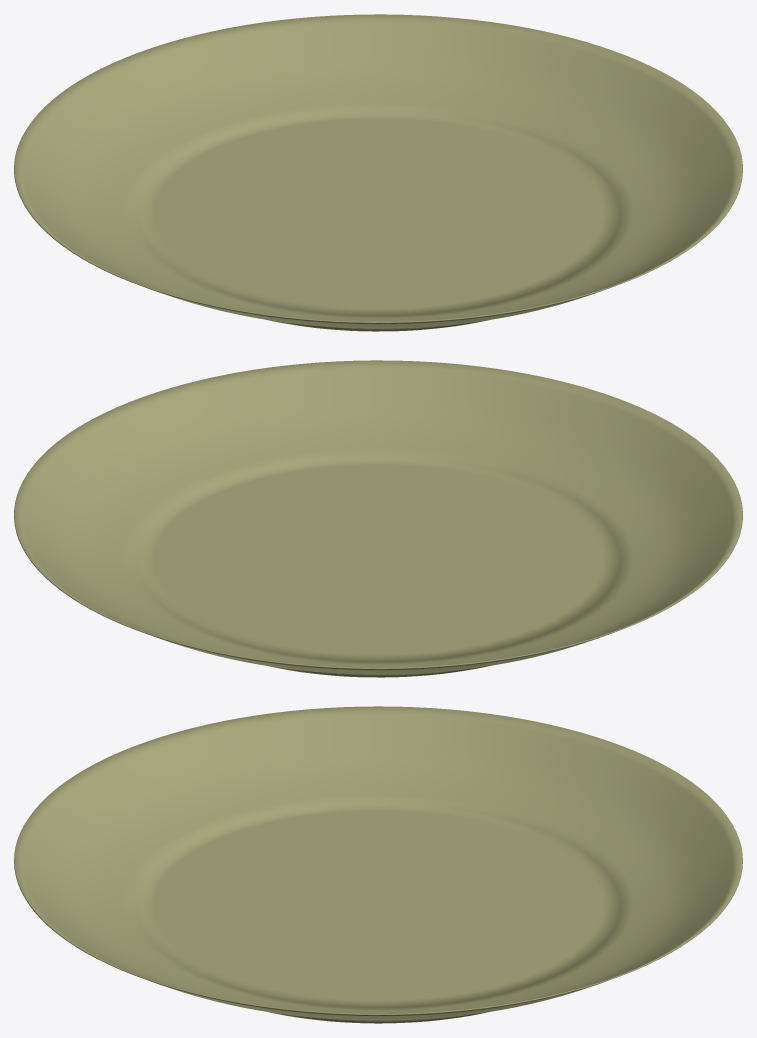
The model's file is piring.fbx.
3 views of the same model, one above another, from view 1: azimuth 30°, elevation 25°; view 2: azimuth 150°, elevation 25°; view 3: azimuth 270°, elevation 25° (orthographic).
Visible parts, largest first — view 1: Plate.005; view 2: Plate.005; view 3: Plate.005.
Part boxes in pixels (bbox=[...]): Plate.005: bbox=[14, 14, 742, 331]; Plate.005: bbox=[14, 360, 742, 677]; Plate.005: bbox=[14, 706, 742, 1023].
Bounding box in the file's own units: 163 × 16.09 × 163.
